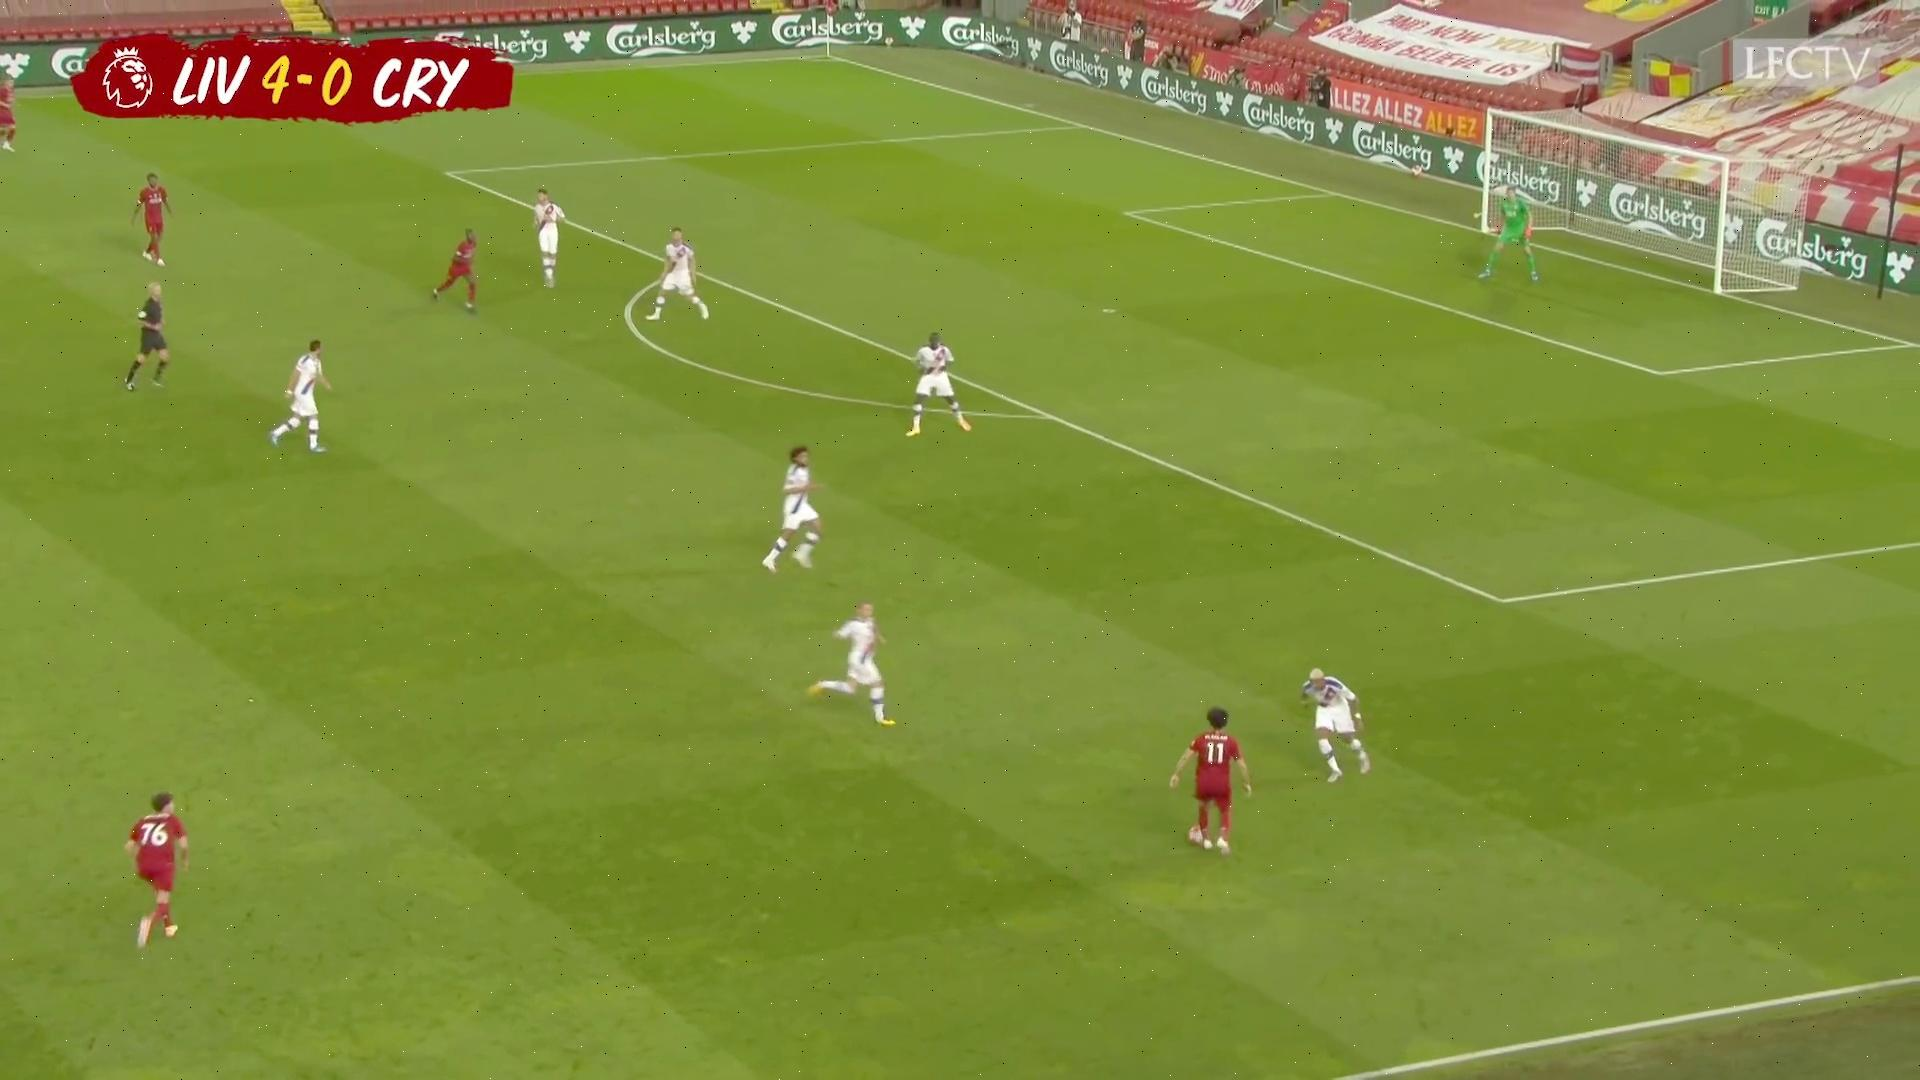ball: (1187, 824, 1208, 848)
